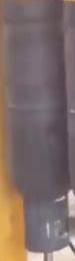cylinder: (0, 1, 75, 261)
